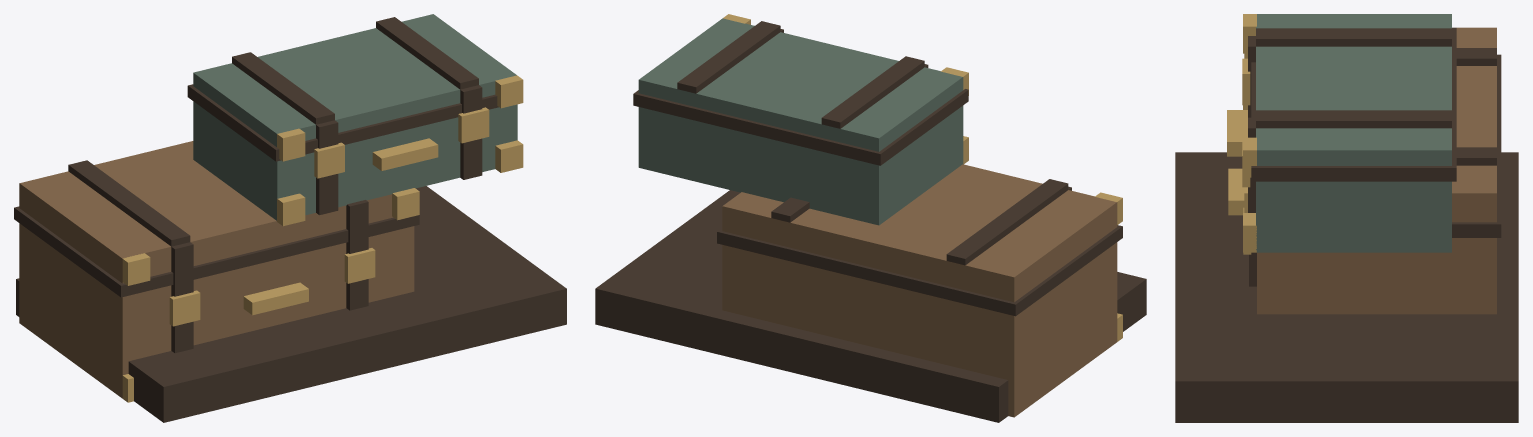
File: 10_Travel_Memories.fbx
3 renders of one model, left to right at view 1: azimuth 30°, elevation 25°; view 2: azimuth 150°, elevation 25°; view 3: azimuth 270°, elevation 25°, orthographic. The views are drawn at different scales.
Visible parts, largest first — view 1: Structure.009; view 2: Structure.009; view 3: Structure.009.
Part boxes in pixels (left/top/right/bottom): Structure.009: left=14, top=14, right=566, bottom=422; Structure.009: left=595, top=14, right=1146, bottom=422; Structure.009: left=1175, top=14, right=1518, bottom=422.
Bounding box in the file's own units: 240 × 130 × 149.
